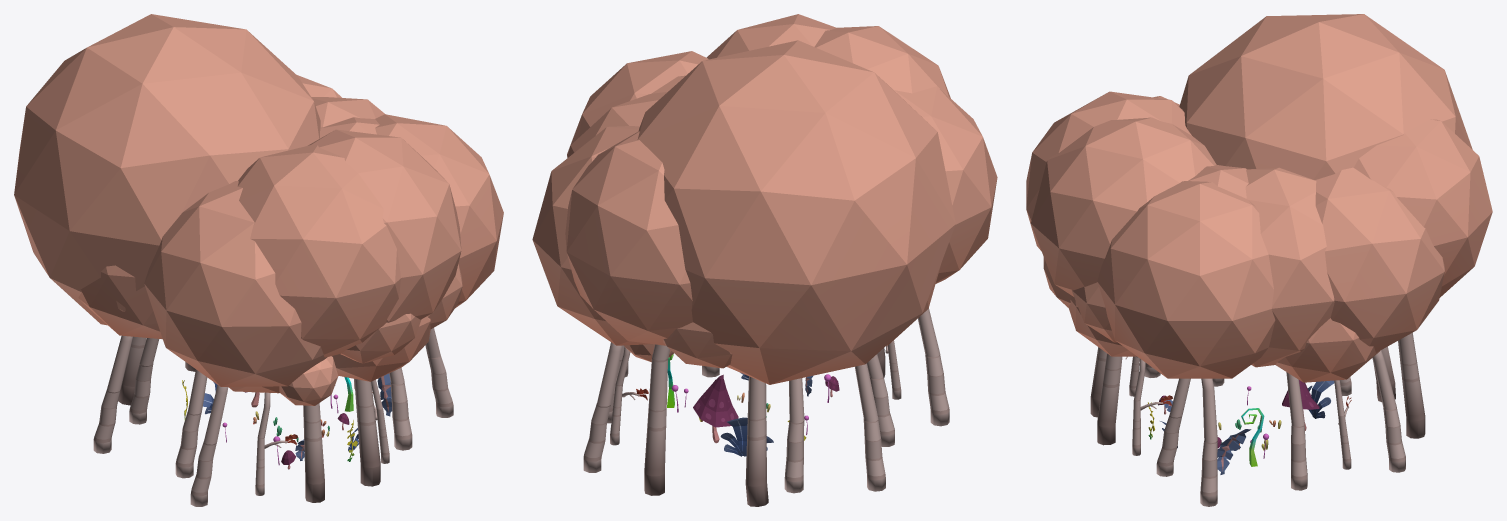
The model's file is mdl_env_1_forest_intro_v02.fbx.
3 renders of one model, left to right at view 1: azimuth 30°, elevation 25°; view 2: azimuth 150°, elevation 25°; view 3: azimuth 270°, elevation 25°, orthographic. The views are drawn at different scales.
Visible parts, largest first — view 1: forestIntro; view 2: forestIntro; view 3: forestIntro.
Part boxes in pixels (x1,y1,x2,y2): forestIntro: (14,14,503,506); forestIntro: (532,14,997,506); forestIntro: (1026,14,1492,506).
Size of the model in its own units: 23.76 by 23.23 by 25.71.
